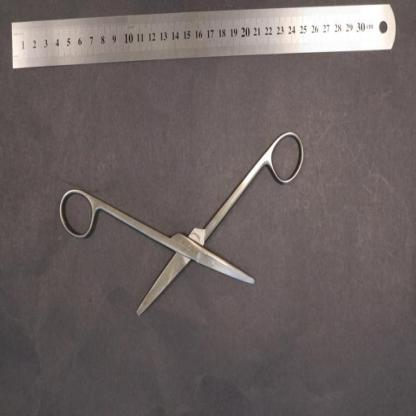Curved Mayo Scissors: (58, 130, 305, 318)
